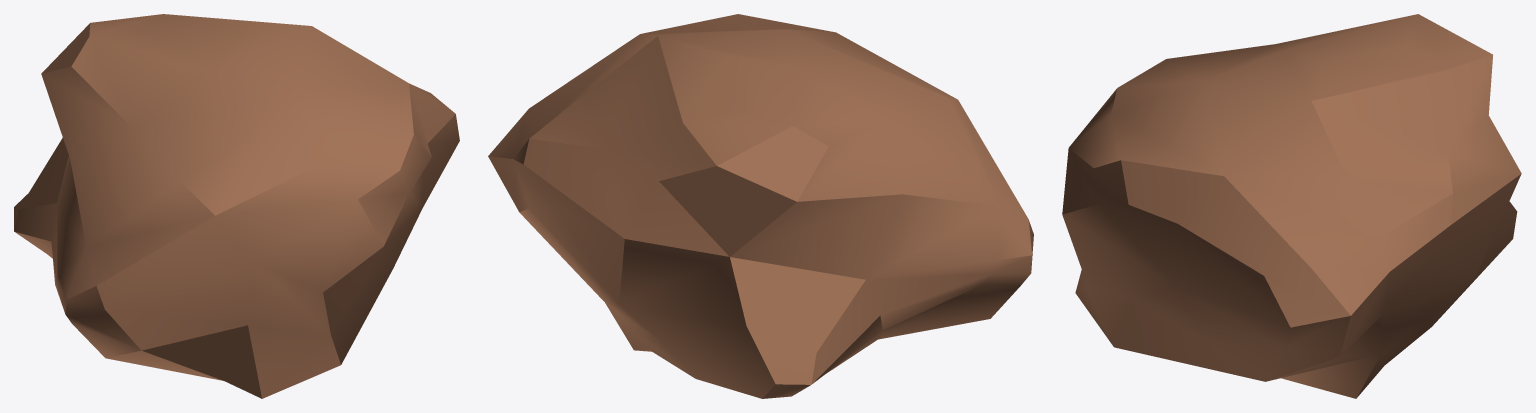
Rendered from rock_medium_1.fbx.
The picture shows the model from 3 angles, left to right: view 1: azimuth 30°, elevation 25°; view 2: azimuth 150°, elevation 25°; view 3: azimuth 270°, elevation 25°; orthographic projection. The views are drawn at different scales.
Parts seen in each view (by area): view 1: Retopo_Rock generator addon.013; view 2: Retopo_Rock generator addon.013; view 3: Retopo_Rock generator addon.013.
Part boxes in pixels (x1,y1,x2,y2): Retopo_Rock generator addon.013: (14,14,459,398); Retopo_Rock generator addon.013: (488,14,1033,398); Retopo_Rock generator addon.013: (1062,14,1521,398).
Bounding box in the file's own units: 59.05 × 37.17 × 50.05.
